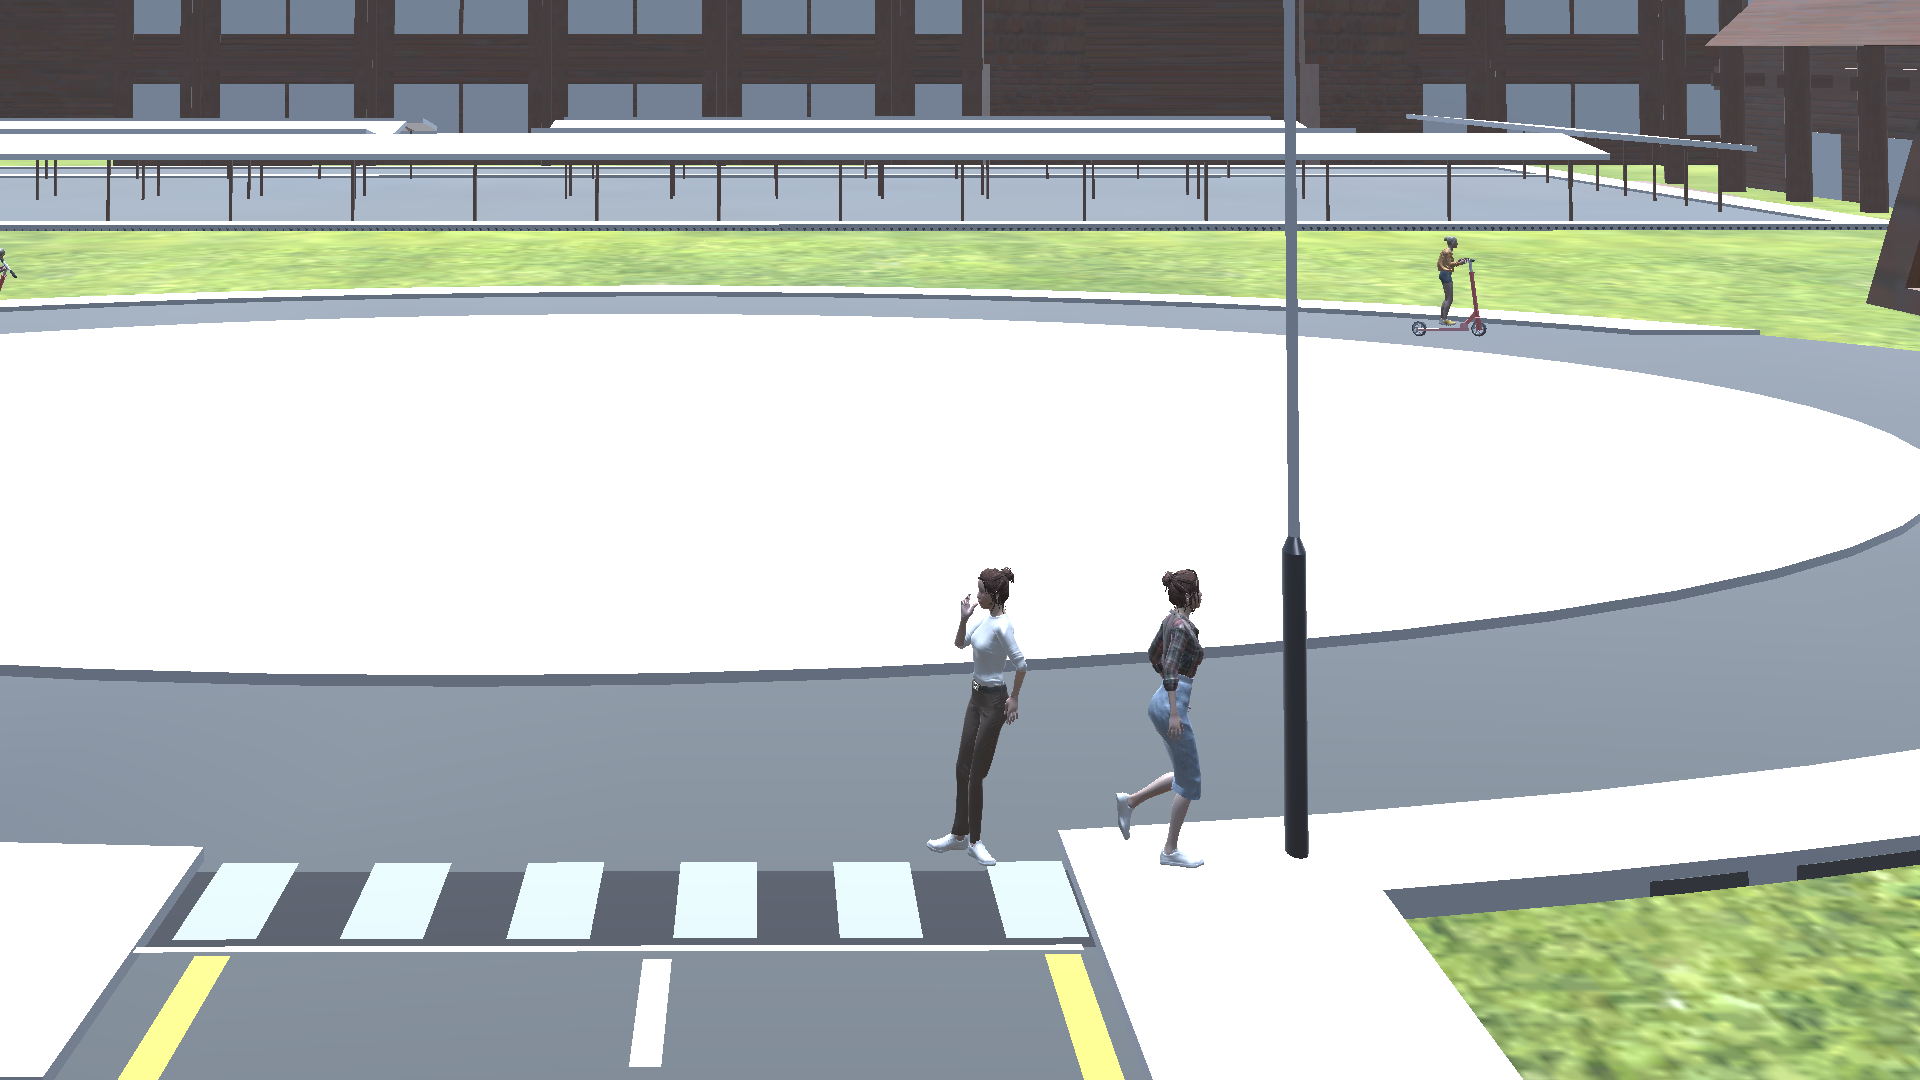pedestrian: (1114, 556, 1210, 877), (927, 564, 1020, 874)
